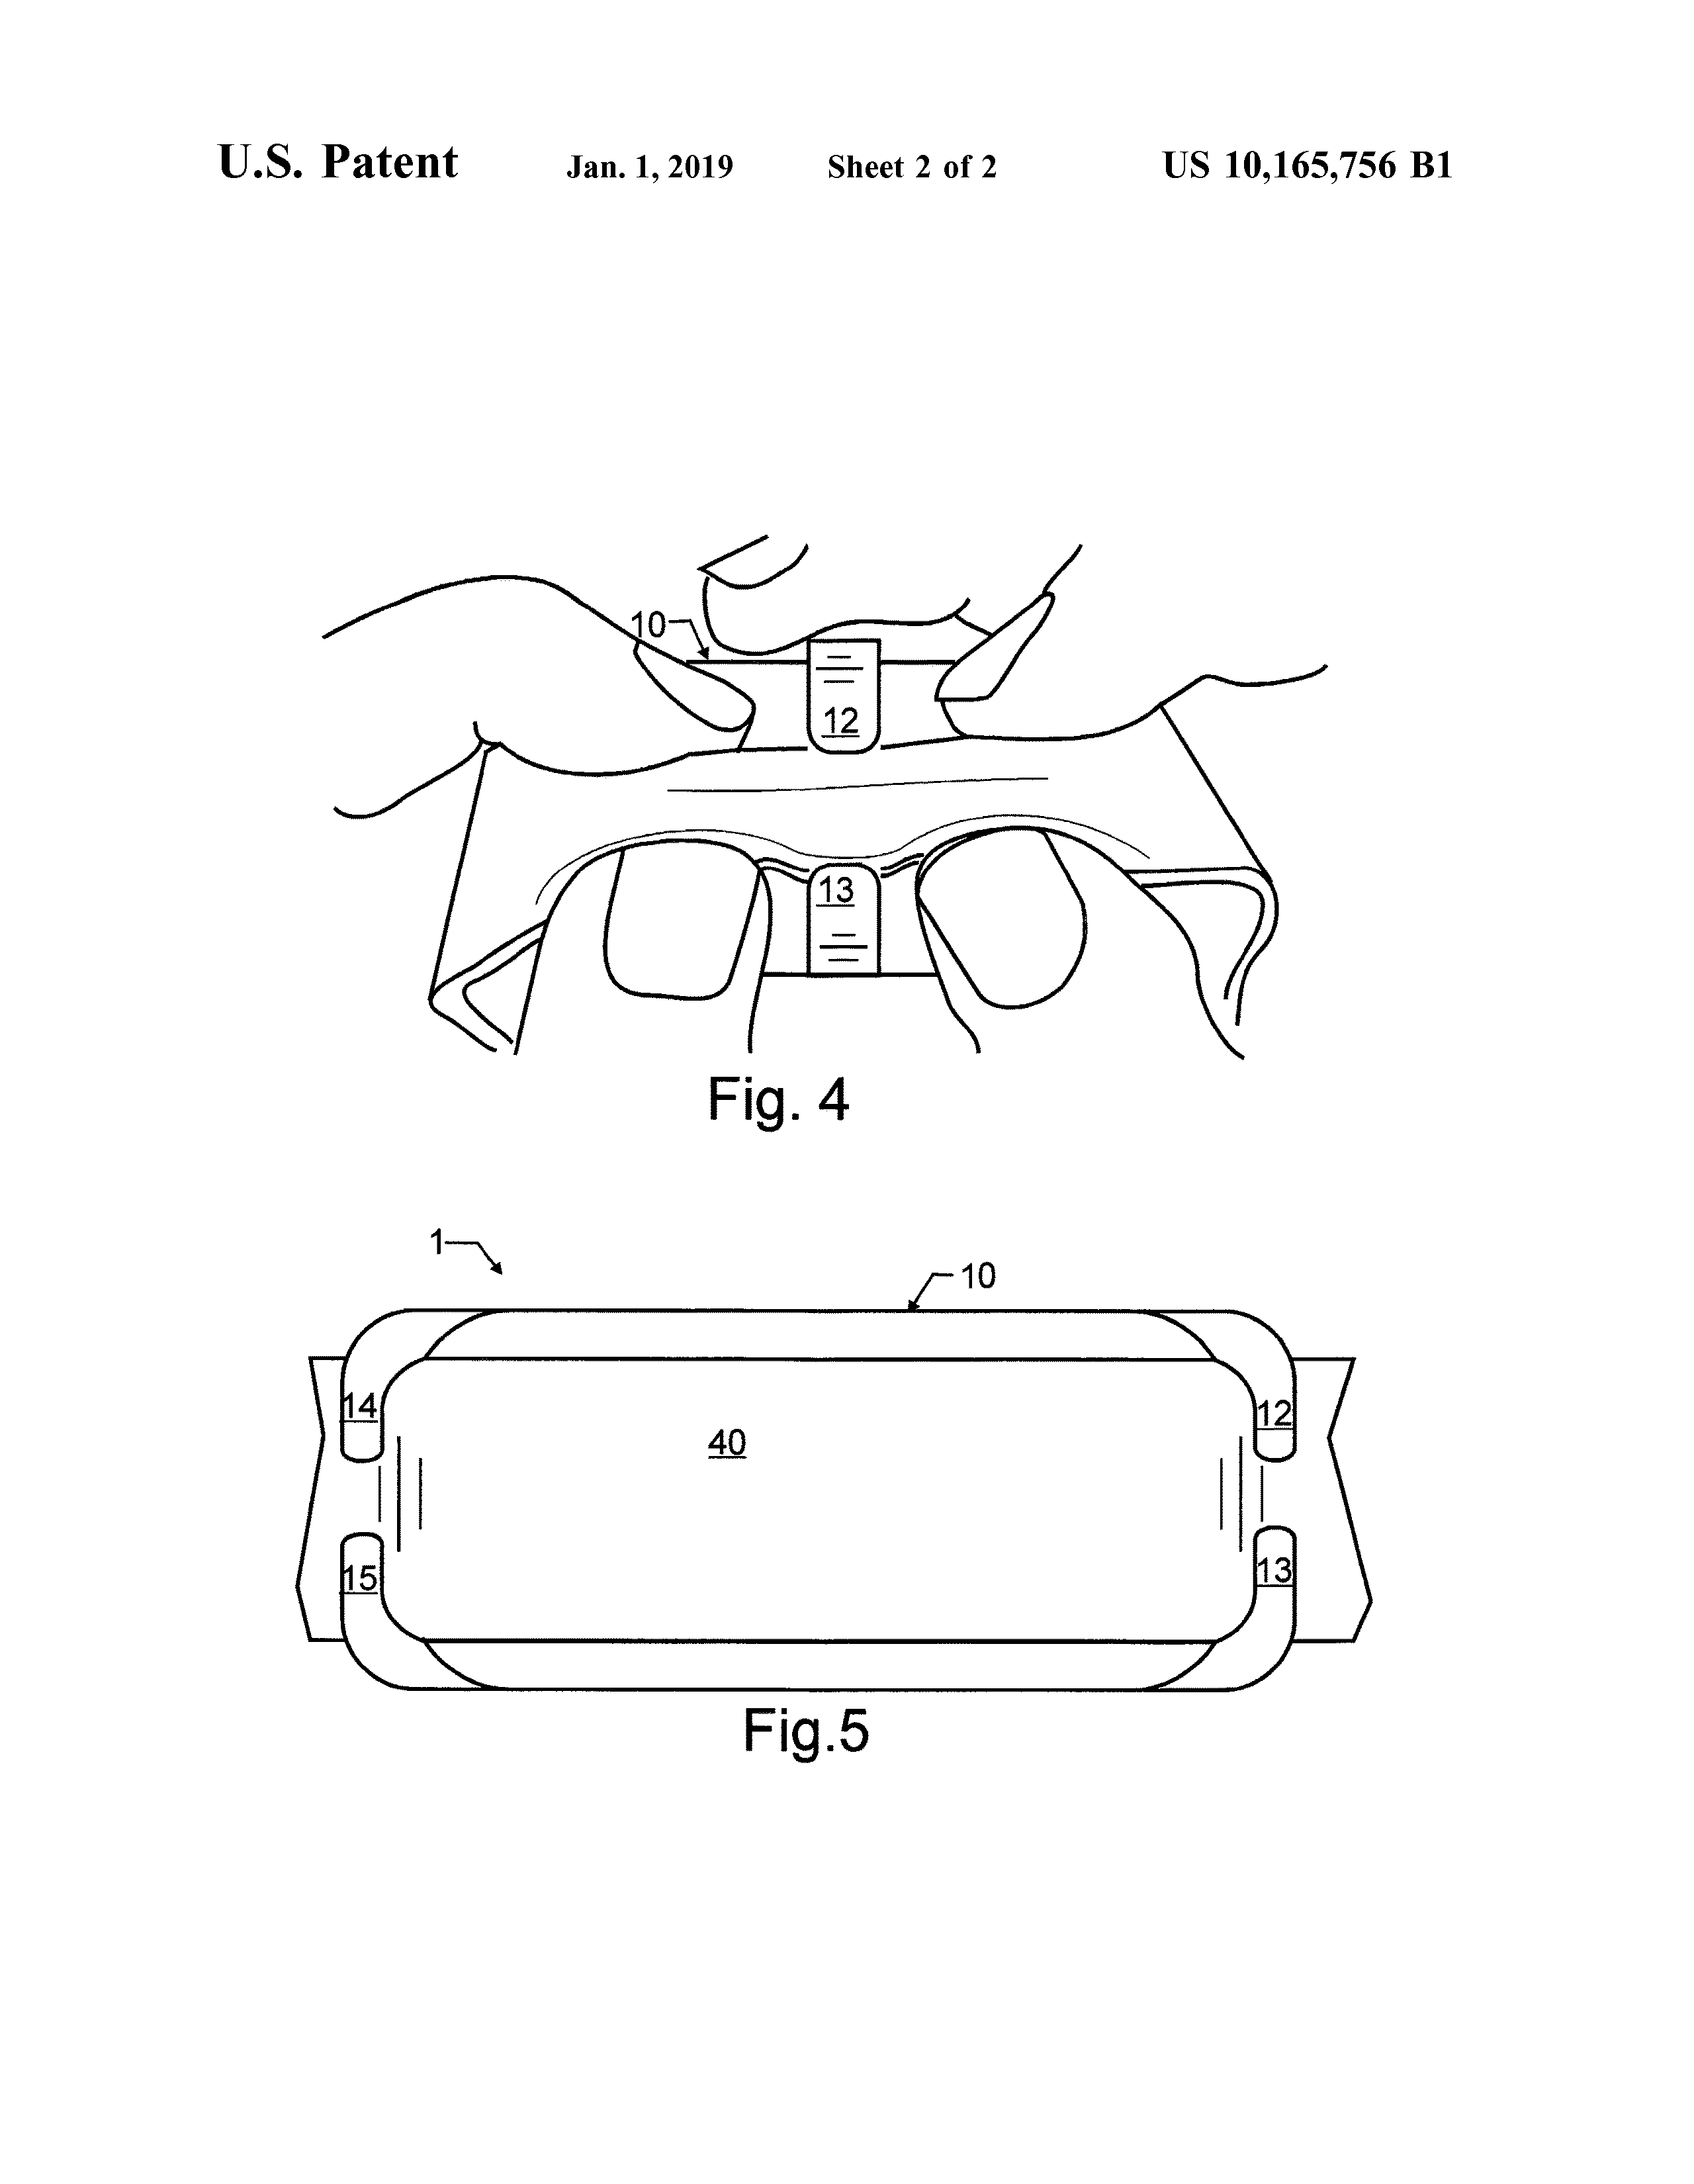patent image: (281, 474, 1411, 1163), (253, 1210, 1468, 1803)
